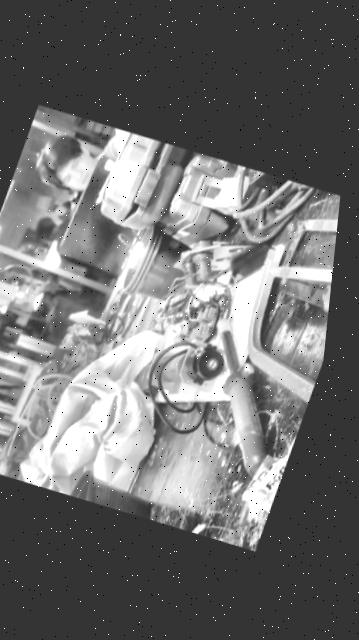pot: (64, 465, 164, 521)
